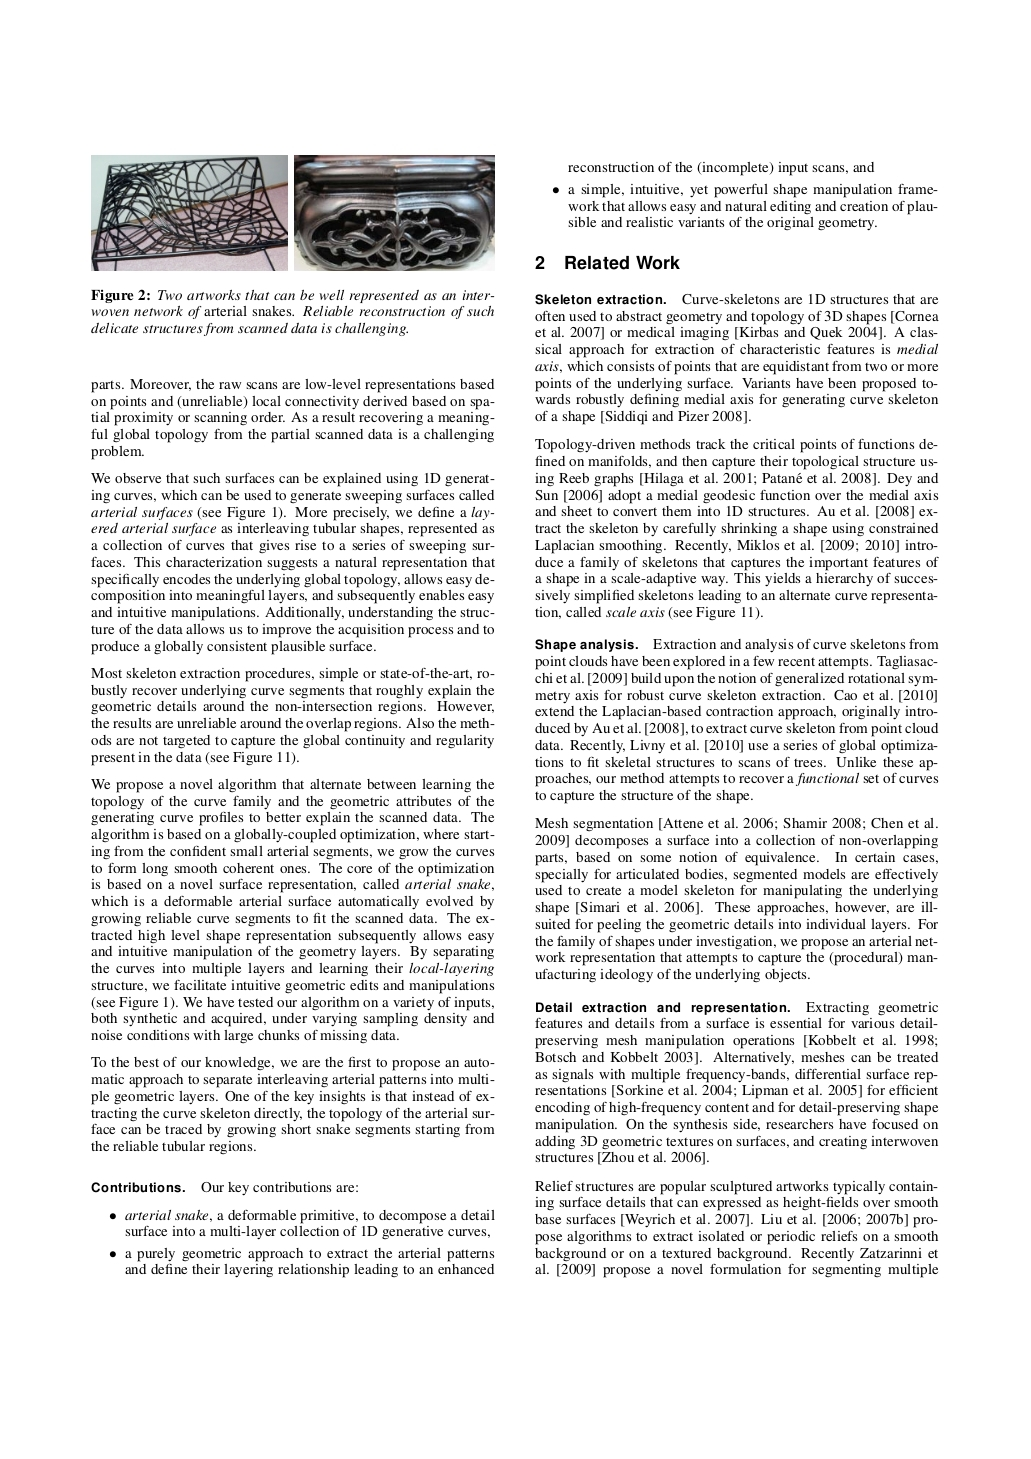figure: (293, 155, 494, 270), (91, 155, 287, 270)
